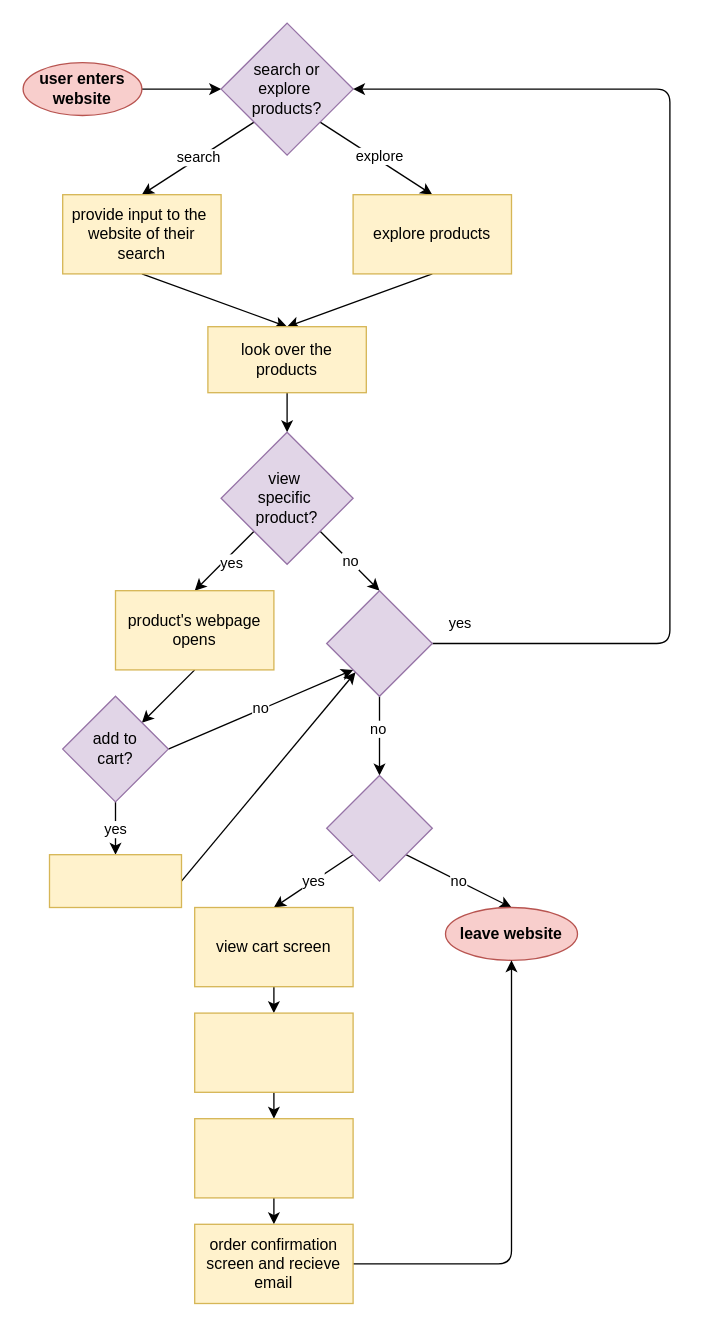
This 704x1327 diagram has some shape labels left out. Each missing label, with the box of its shape:
added to cart confirmation: (48, 853, 182, 908)
checkout?: (325, 774, 432, 881)
continue shopping?: (325, 589, 432, 696)
give payment information input: (193, 1117, 353, 1198)
view payment screen: (193, 1012, 353, 1092)
